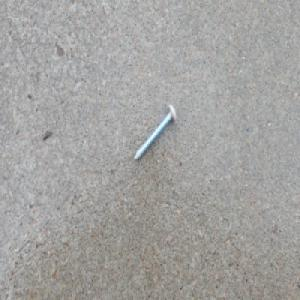Nail: (133, 102, 177, 163)
